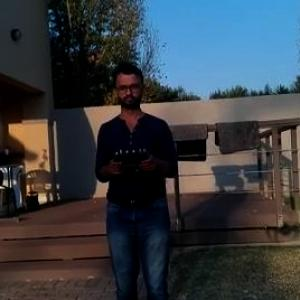follow: (92, 54, 186, 299)
